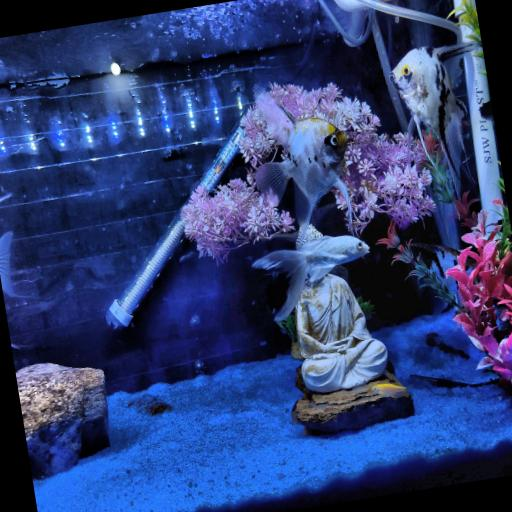Fish: (254, 86, 352, 249), (390, 44, 474, 197), (254, 236, 369, 321), (0, 232, 15, 296), (372, 383, 407, 396)
